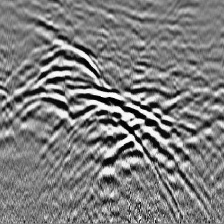cavities: (8, 35, 198, 198)
